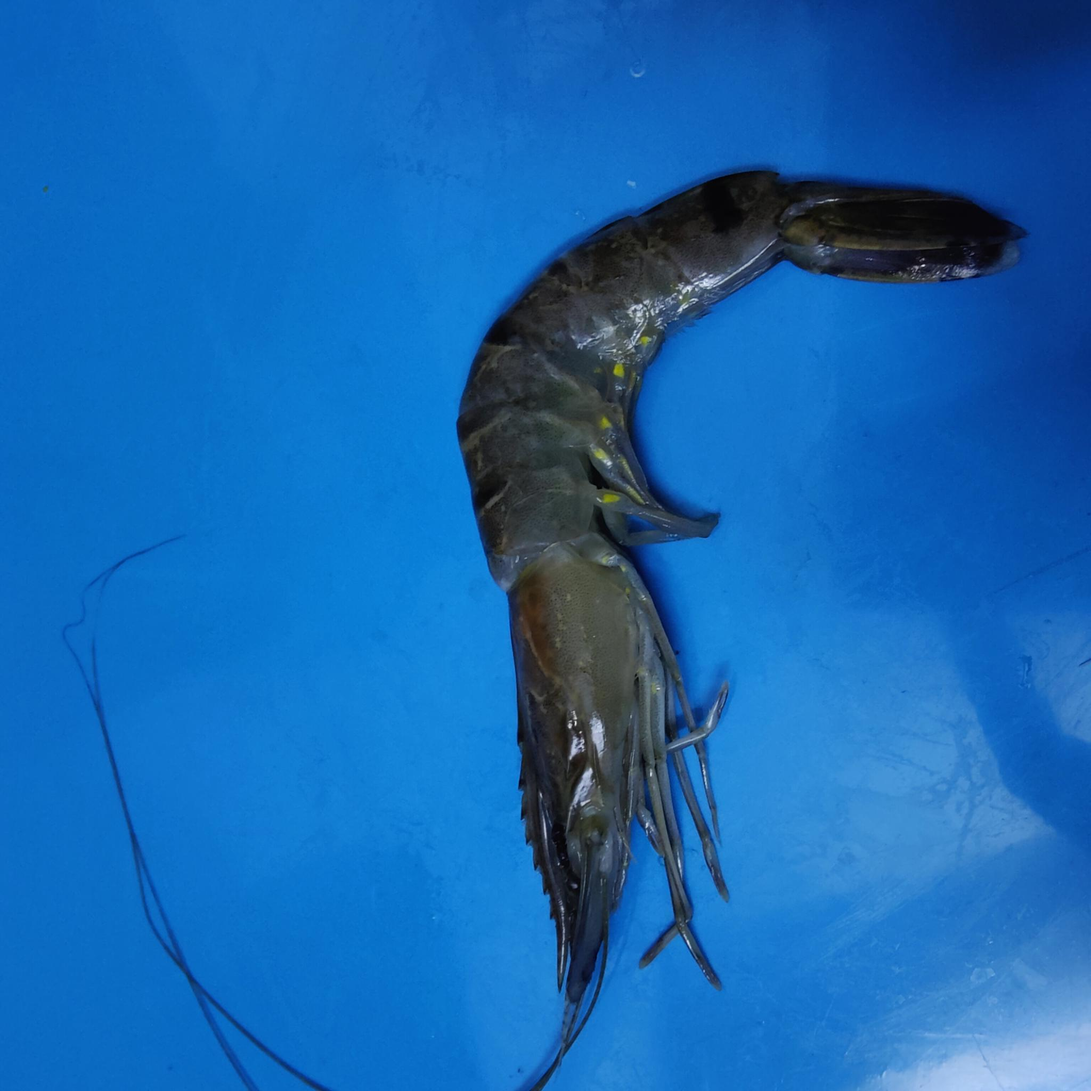whitespot: (550, 222, 679, 309), (524, 574, 614, 689)
